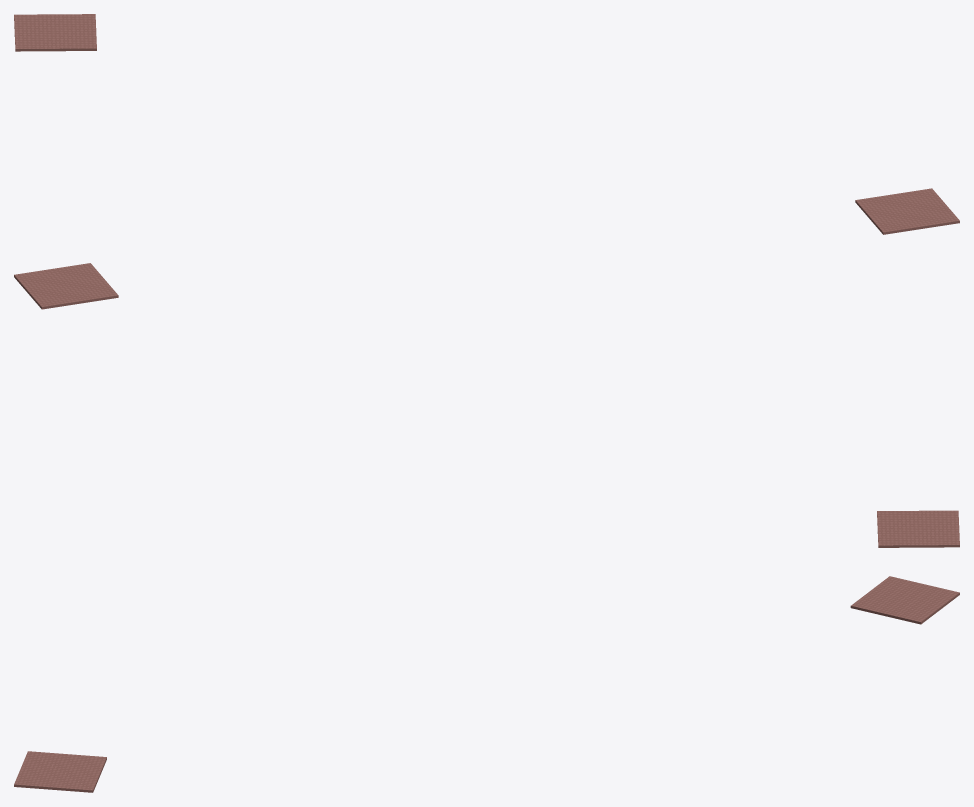
File: kd_stage_135ebf_0_10_bounded.glb
The picture shows the model from 3 angles, top to bottom: view 1: azimuth 30°, elevation 25°; view 2: azimuth 210°, elevation 25°; view 3: azimuth 270°, elevation 25°; orthographic projection.
Parts seen in each view (by area): view 1: kd_stage_135ebf_0_10_bounded; view 2: kd_stage_135ebf_0_10_bounded; view 3: kd_stage_135ebf_0_10_bounded.
Boxes of the visible parts, x1,y1,x2,y2 form: kd_stage_135ebf_0_10_bounded: (14,14,959,234); kd_stage_135ebf_0_10_bounded: (14,263,959,547); kd_stage_135ebf_0_10_bounded: (14,576,959,792).
Size of the model in its own units: 2.54 by 0.163 by 4.12.
1 material, 1 textured.
